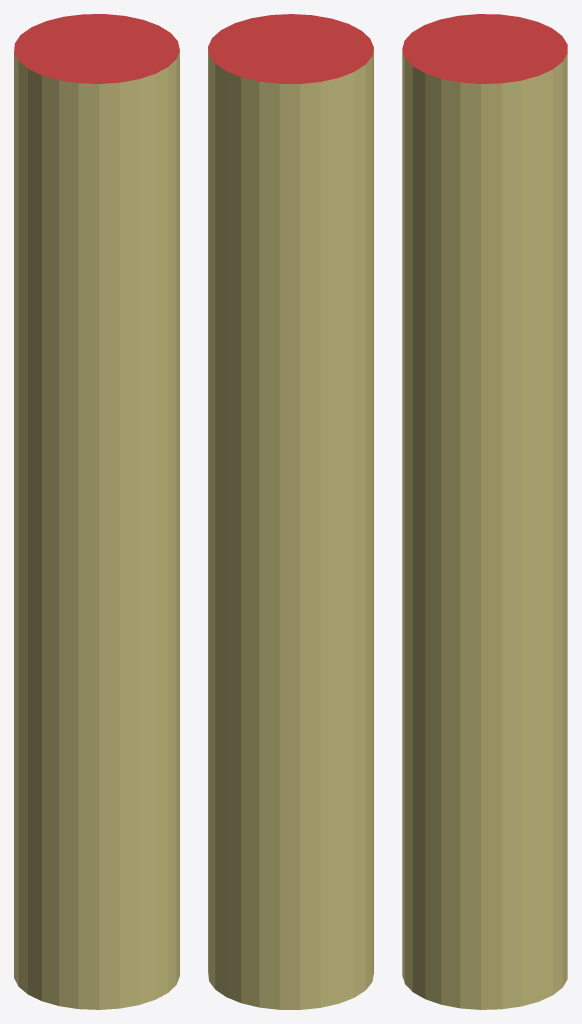
The picture shows the model from 3 angles, left to right: view 1: azimuth 30°, elevation 25°; view 2: azimuth 150°, elevation 25°; view 3: azimuth 270°, elevation 25°; orthographic projection.
Size of the model in its own units: 1.73 by 1.73 by 10.66.
